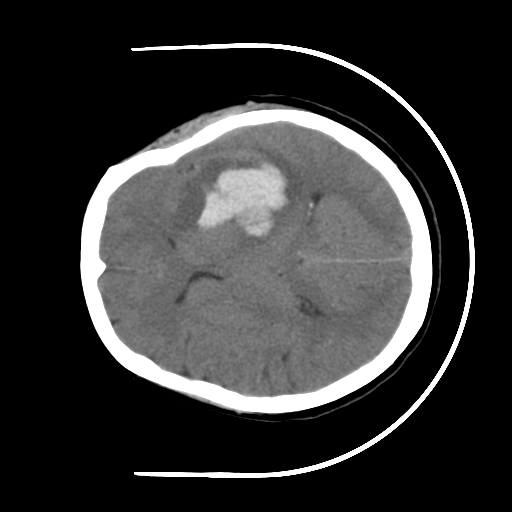a: (158, 137, 315, 254)
